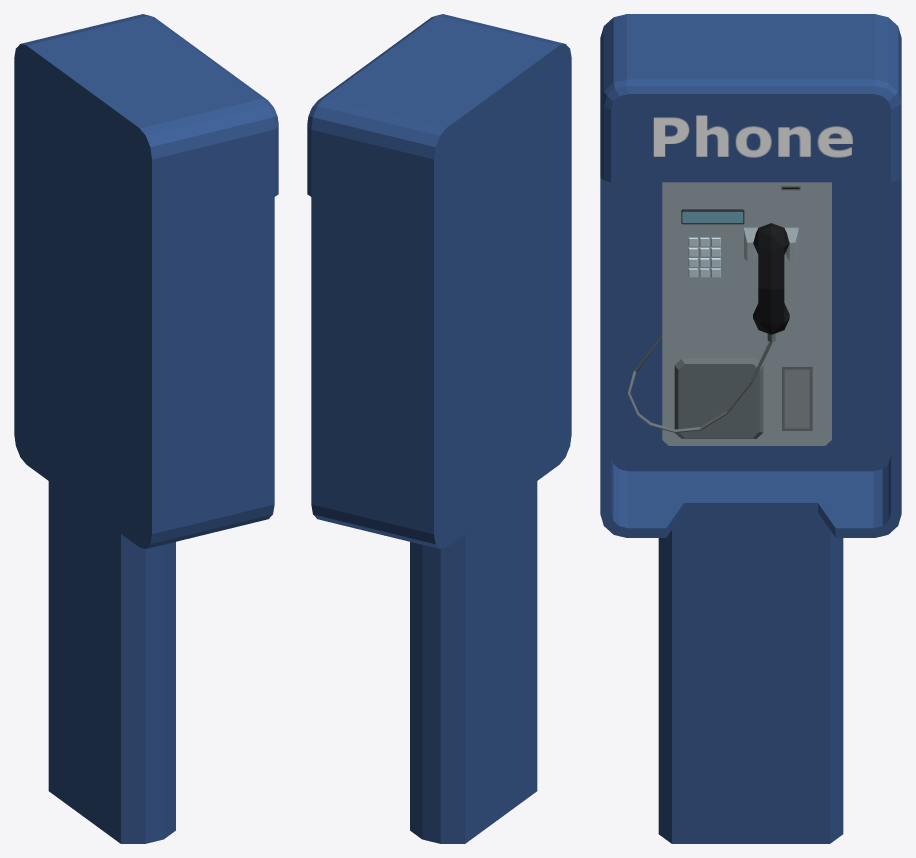
File: phone booth.fbx
3 renders of one model, left to right at view 1: azimuth 30°, elevation 25°; view 2: azimuth 150°, elevation 25°; view 3: azimuth 270°, elevation 25°, orthographic. The views are drawn at different scales.
Parts seen in each view (by area): view 1: phone booth; view 2: phone booth; view 3: phone booth.
Part boxes in pixels (box(x1,y1,x2,y2)): phone booth: box(14, 14, 278, 843); phone booth: box(307, 14, 571, 843); phone booth: box(600, 14, 901, 843).
Bounding box in the file's own units: 44.02 × 233 × 79.79.
Materials: 1 (1 with a texture image).
